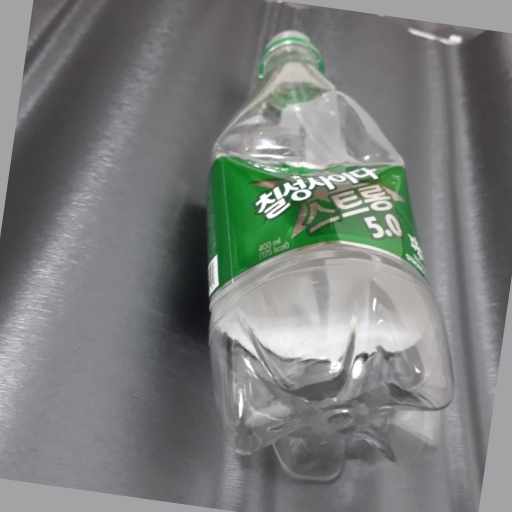Plastic_0: (206, 28, 456, 485)
